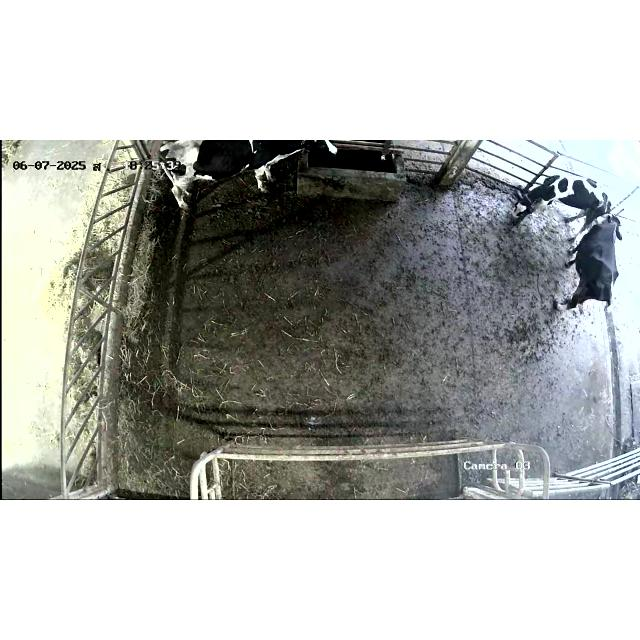stand: (151, 140, 338, 211), (552, 213, 622, 311), (511, 175, 611, 242)
